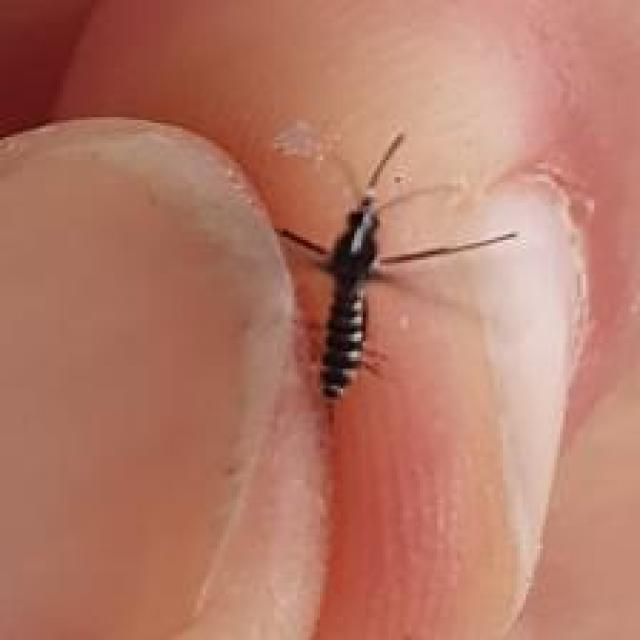Aedes albopictus: (272, 127, 517, 404)
